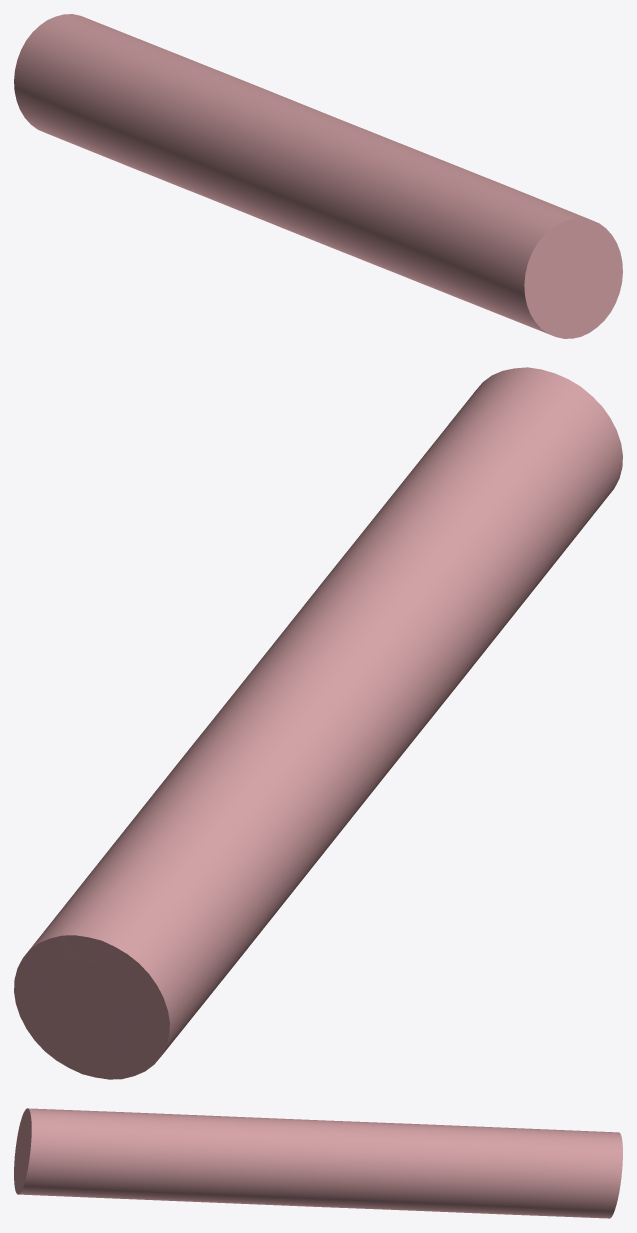
The model's file is fma54756-r_mm2107m.glb.
The picture shows the model from 3 angles, top to bottom: view 1: azimuth 30°, elevation 25°; view 2: azimuth 150°, elevation 25°; view 3: azimuth 270°, elevation 25°; orthographic projection. The views are drawn at different scales.
Visible parts, largest first — view 1: FMA54756-R_MM2107M; view 2: FMA54756-R_MM2107M; view 3: FMA54756-R_MM2107M.
Boxes of the visible parts, x1,y1,x2,y2 form: FMA54756-R_MM2107M: (14, 14, 622, 338); FMA54756-R_MM2107M: (14, 367, 622, 1079); FMA54756-R_MM2107M: (14, 1108, 622, 1218).
Size of the model in its own units: 0.00559 by 0.0051 by 0.0211.
